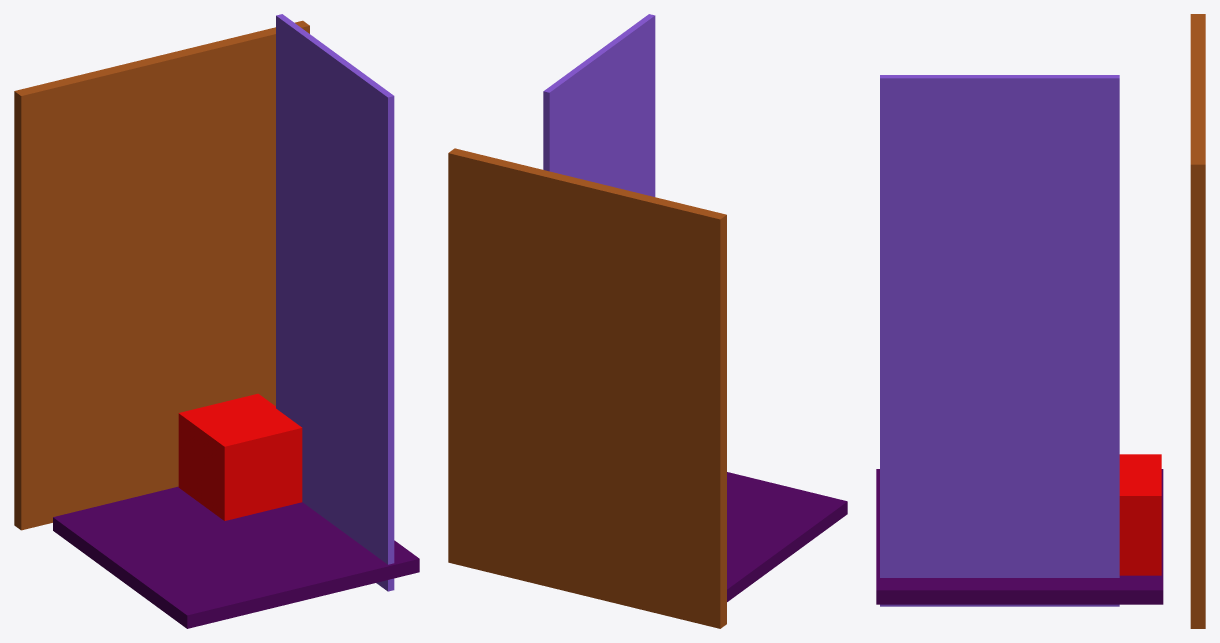
Rendered from simple_006_Pivot_00.dae.
The picture shows the model from 3 angles, left to right: view 1: azimuth 30°, elevation 25°; view 2: azimuth 150°, elevation 25°; view 3: azimuth 270°, elevation 25°; orthographic projection. The views are drawn at different scales.
Parts seen in each view (by area): view 1: Box02, Box03, Box01, pCube2_PIVOT; view 2: Box02, Box03, Box01; view 3: Box03, Box02, Box01, pCube2_PIVOT.
Part boxes in pixels (x1=…): Box02: x1=14, y1=20, x2=309, y2=530; Box03: x1=276, y1=14, x2=394, y2=591; Box01: x1=53, y1=486, x2=419, y2=628; pCube2_PIVOT: x1=178, y1=393, x2=302, y2=520; Box02: x1=448, y1=148, x2=726, y2=628; Box03: x1=543, y1=14, x2=655, y2=196; Box01: x1=727, y1=472, x2=847, y2=601; Box03: x1=880, y1=75, x2=1119, y2=606; Box02: x1=1190, y1=14, x2=1205, y2=628; Box01: x1=876, y1=469, x2=1163, y2=604; pCube2_PIVOT: x1=1119, y1=454, x2=1161, y2=575.
Bounding box in the file's own units: 30.38 × 28.07 × 49.68.
